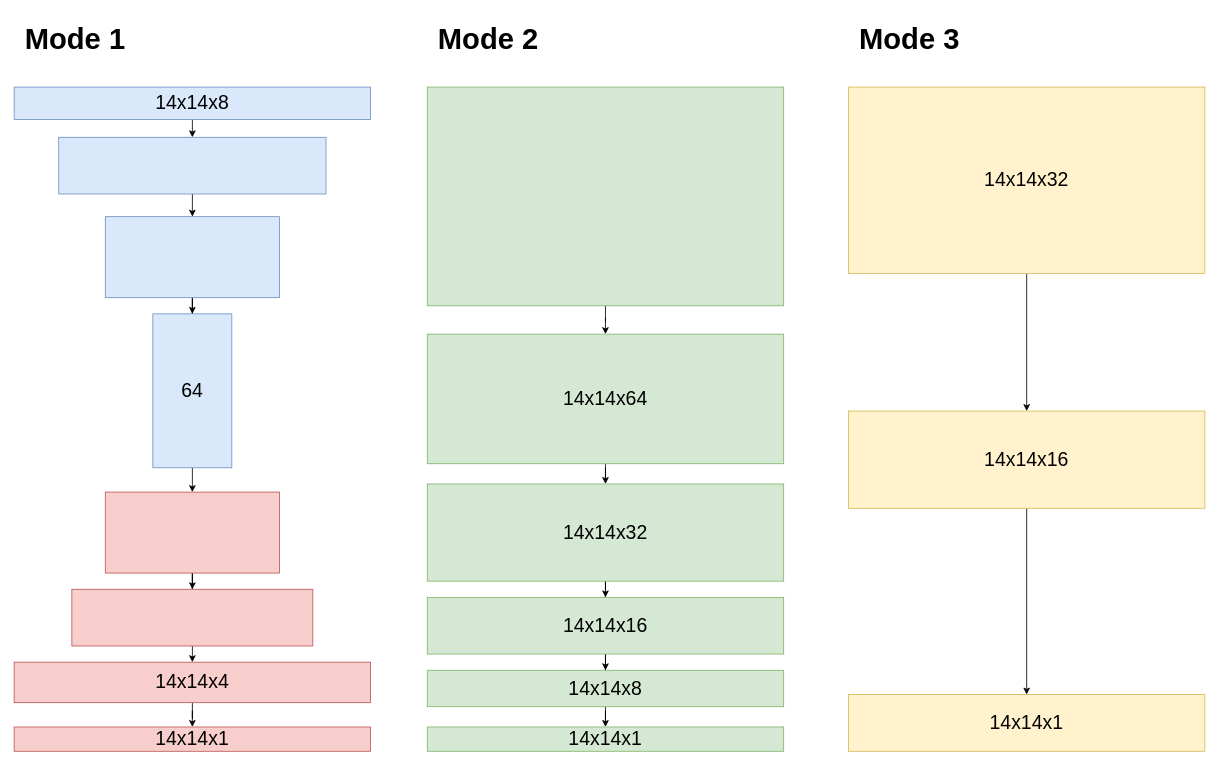
The diagram is 1219 pixels wide and 765 high, and some of its shapes have lost their labels. Each missing label, with the centre of its shape:
"14x14x128" belongs at point 605,196.
"3x3x16" belongs at point 191,532.
"3x3x32" belongs at point 191,257.
"7x7x16" belongs at point 192,165.
"7x7x8" belongs at point 192,617.
